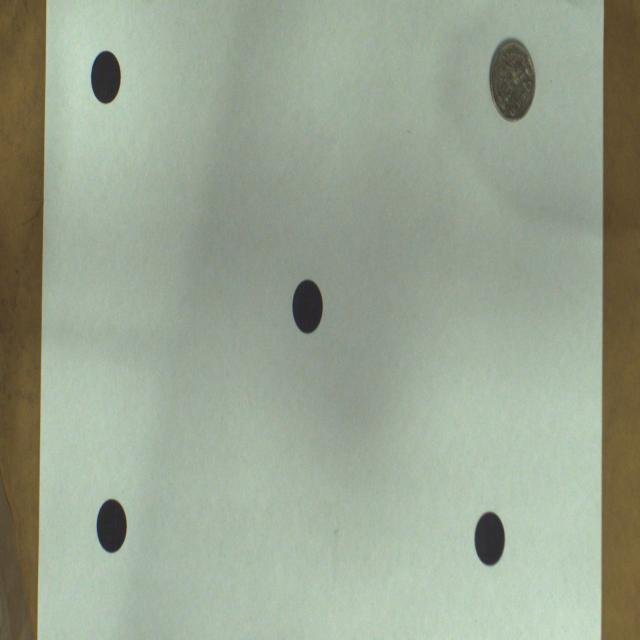space: (96, 498, 128, 553), (91, 51, 121, 104), (292, 280, 322, 333), (475, 513, 505, 564)
tail5bath: (490, 40, 535, 120)
